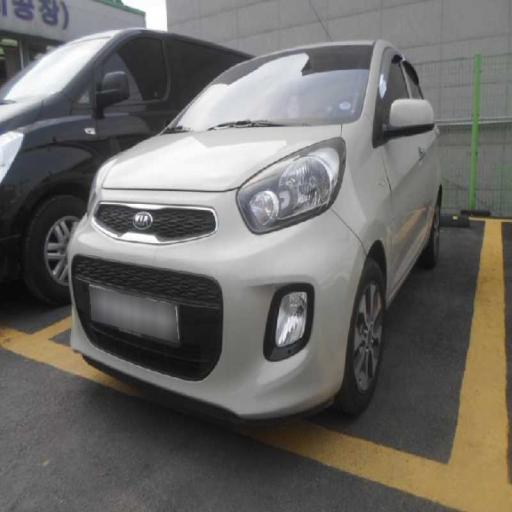normal: (84, 26, 455, 429)
